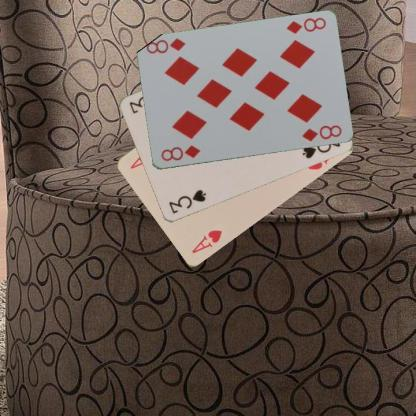3s: (166, 187, 207, 216)
8d: (284, 15, 327, 36), (158, 143, 201, 163)
Ah: (189, 227, 224, 255)
